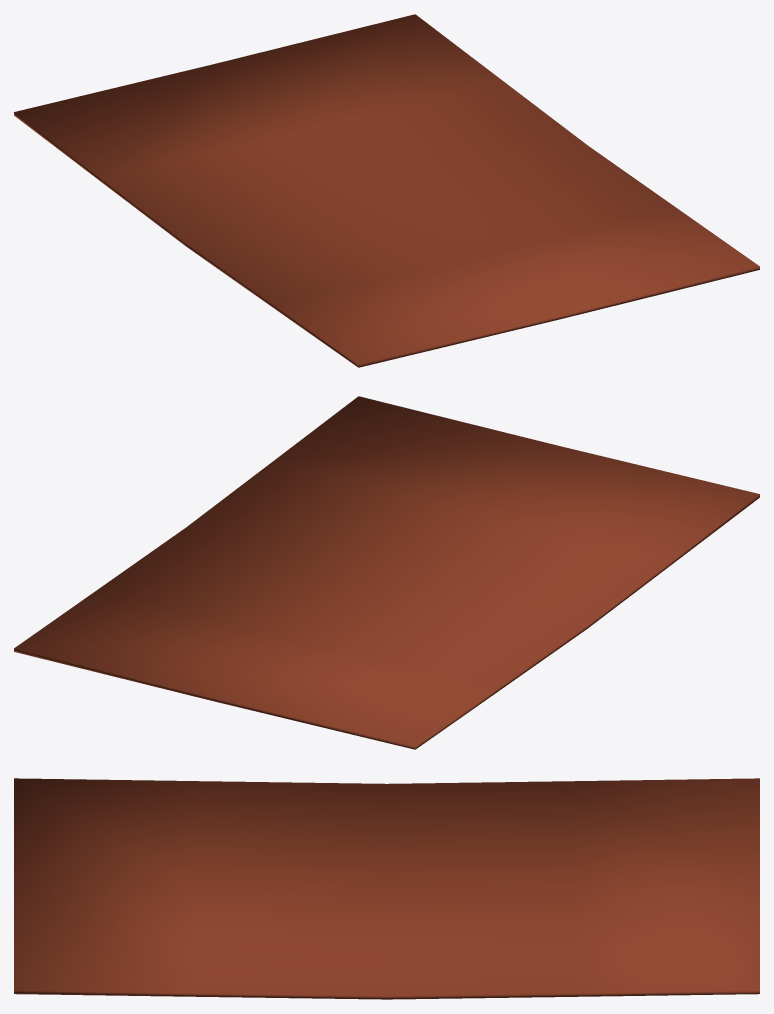
The model's file is NS_Herbier.glb.
3 renders of one model, top to bottom at view 1: azimuth 30°, elevation 25°; view 2: azimuth 150°, elevation 25°; view 3: azimuth 270°, elevation 25°, orthographic. The views are drawn at different scales.
Parts seen in each view (by area): view 1: NS_Herbier_low; view 2: NS_Herbier_low; view 3: NS_Herbier_low.
Boxes of the visible parts, x1,y1,x2,y2 form: NS_Herbier_low: [14, 14, 759, 367]; NS_Herbier_low: [14, 396, 759, 749]; NS_Herbier_low: [14, 778, 759, 999].
Bounding box in the file's own units: 0.2493 × 0.00964 × 0.3706.
